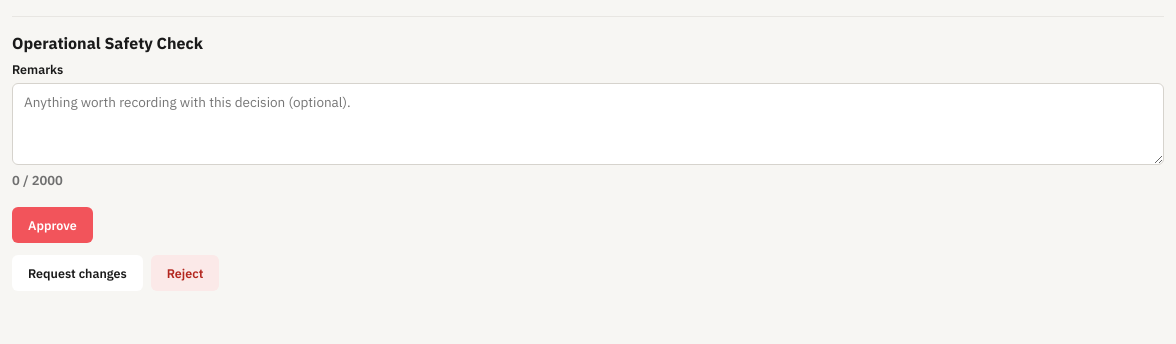
Test: clicking Approve shows a confirm step before anything is sent
Click the button "Approve": click(52, 225) [12,207,93,243]
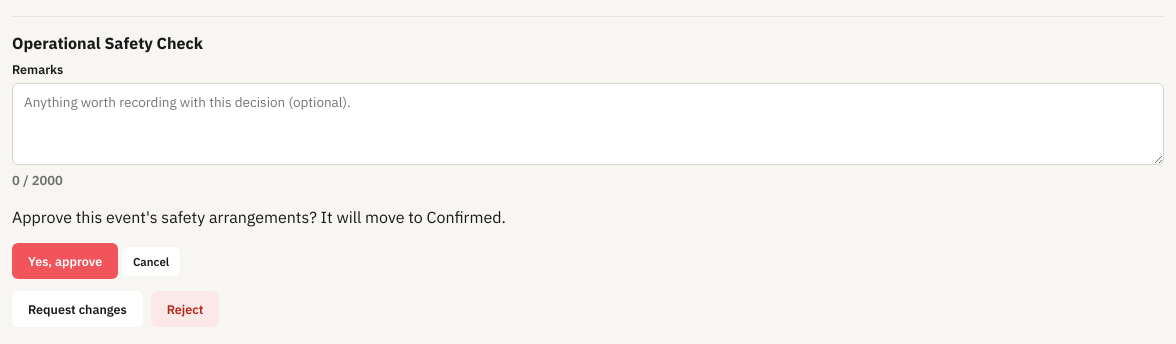
Check: the text "Approve this event's safety arrangements? It will move to Confirmed." is shown, box [12,207,506,227]
